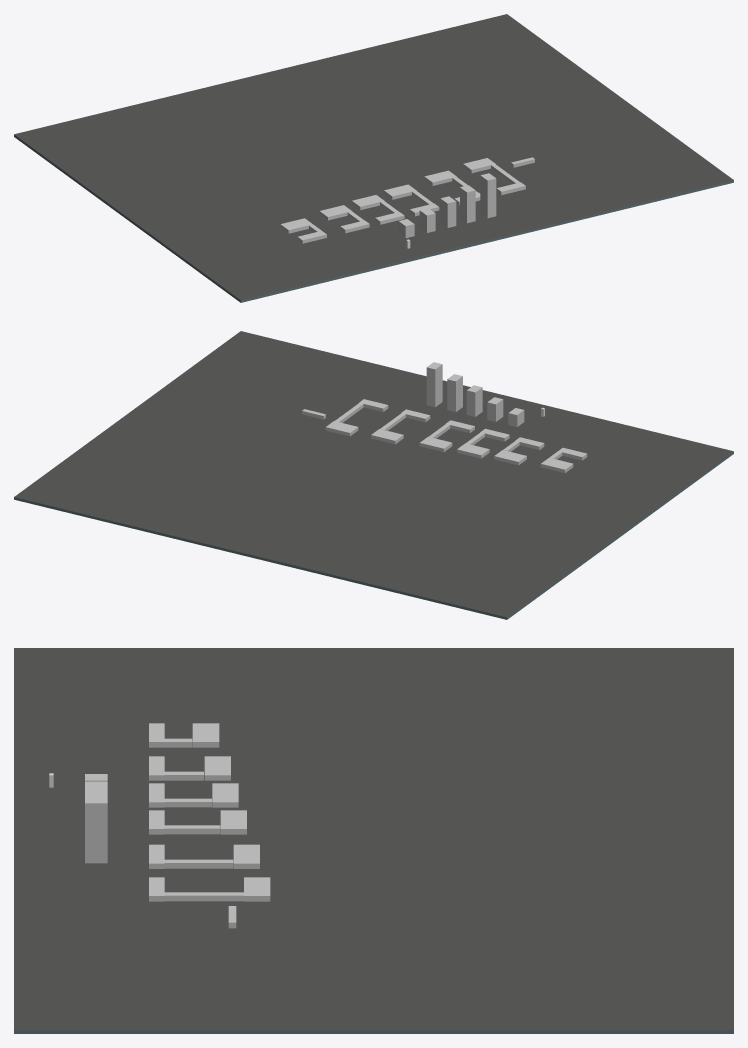
The model's file is test level.fbx.
3 views of the same model, one above another, from view 1: azimuth 30°, elevation 25°; view 2: azimuth 150°, elevation 25°; view 3: azimuth 270°, elevation 25° (orthographic). The views are drawn at different scales.
Parts seen in each view (by area): view 1: ground.003, jetpack height 2.003, jetpack height 2.002, jetpack height 2.001; view 2: ground.003, jetpack height 2.003, jetpack height 2.002, jetpack height 2.001; view 3: ground.003, jetpack height 2.003, jump length.003, jump height.003, jump length.004, jump height.001, jump height.007, jump height.011, jump height.005, jump height.009.
Boxes of the visible parts, x1,y1,x2,y2 form: ground.003: (14,14,733,302); jetpack height 2.003: (480,173,496,218); jetpack height 2.002: (460,185,475,223); jetpack height 2.001: (440,196,456,227); ground.003: (14,331,733,619); jetpack height 2.003: (426,362,442,407); jetpack height 2.002: (447,374,462,412); jetpack height 2.001: (466,385,482,416); ground.003: (14,648,733,1033); jetpack height 2.003: (85,796,107,863); jump length.003: (164,892,243,901); jump height.003: (192,723,219,747); jump length.004: (164,859,233,868); jump height.001: (204,756,230,780); jump height.007: (220,810,246,834); jump height.011: (212,783,238,807); jump height.005: (244,877,270,901); jump height.009: (233,844,259,868).
Bounding box in the file's own units: 400 × 319 × 31.29.
